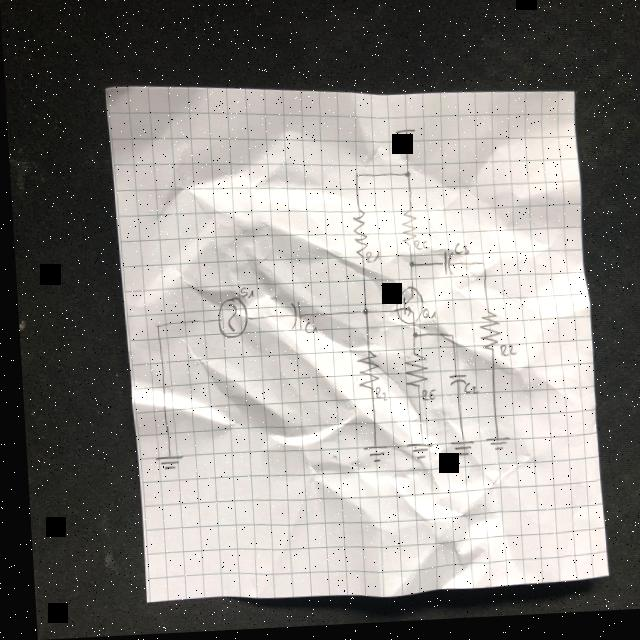capacitor: (285, 302, 299, 334), (440, 255, 451, 282), (443, 378, 462, 391)
ground: (357, 447, 383, 468), (400, 446, 428, 465), (148, 455, 179, 472), (444, 445, 469, 462), (479, 441, 505, 457)
junction: (406, 333, 415, 345), (404, 264, 413, 275), (475, 264, 484, 275), (443, 335, 452, 346), (401, 174, 409, 186), (358, 311, 366, 322), (350, 176, 358, 186), (150, 325, 158, 333)
resistor: (474, 313, 498, 357), (351, 352, 375, 395), (398, 356, 423, 393), (349, 212, 365, 262), (397, 212, 414, 251)
source: (212, 298, 246, 341), (391, 132, 415, 148)
text: (458, 386, 473, 401), (417, 311, 433, 325), (496, 349, 512, 363), (450, 247, 466, 261), (410, 243, 427, 256), (236, 289, 251, 303), (362, 254, 378, 267), (370, 390, 383, 406), (300, 324, 314, 338), (416, 392, 430, 406)
transistor: (391, 289, 421, 329)
